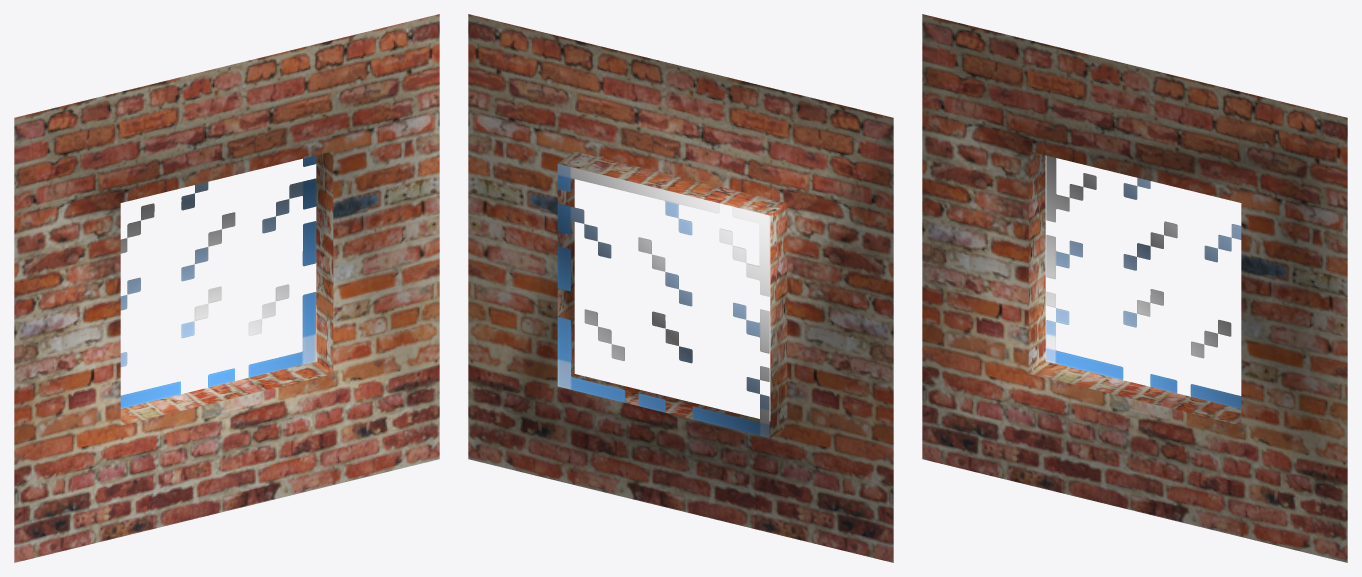
The model's file is Wall_Window.fbx.
The picture shows the model from 3 angles, left to right: view 1: azimuth 30°, elevation 25°; view 2: azimuth 150°, elevation 25°; view 3: azimuth 330°, elevation 25°; orthographic projection.
Parts seen in each view (by area): view 1: Cube; view 2: Cube; view 3: Cube.
Part boxes in pixels (<box>): Cube: <box>14,14,439,562</box>; Cube: <box>468,14,893,562</box>; Cube: <box>922,14,1347,562</box>.
Size of the model in its own units: 1 by 0.0697 by 1.
